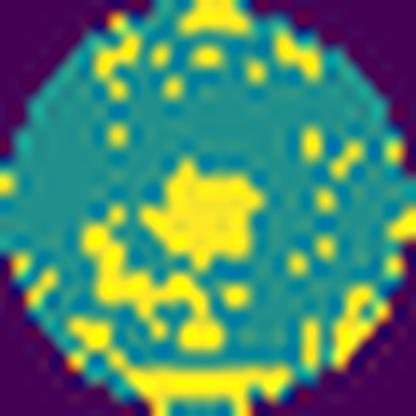Center: (135, 150, 278, 274)
